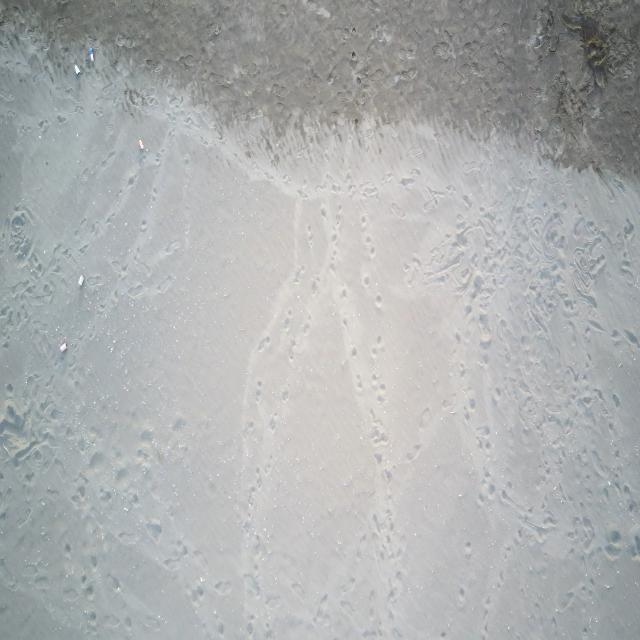tin-and-aluminum-cans: (59, 342, 69, 354), (88, 47, 95, 62), (77, 275, 85, 288), (138, 138, 146, 151), (73, 64, 81, 76)
